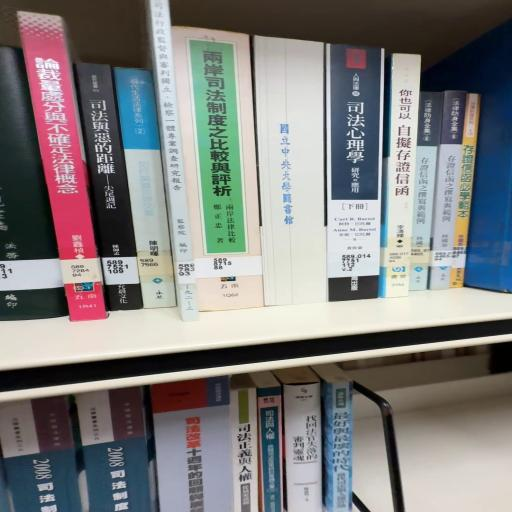backward: (258, 35, 333, 311)
book: (15, 12, 105, 330), (175, 27, 264, 261), (1, 44, 69, 325), (75, 63, 145, 316), (113, 64, 178, 311), (327, 44, 387, 305), (378, 50, 421, 299), (463, 83, 510, 299), (282, 380, 324, 512), (323, 379, 357, 512), (260, 386, 287, 512)
